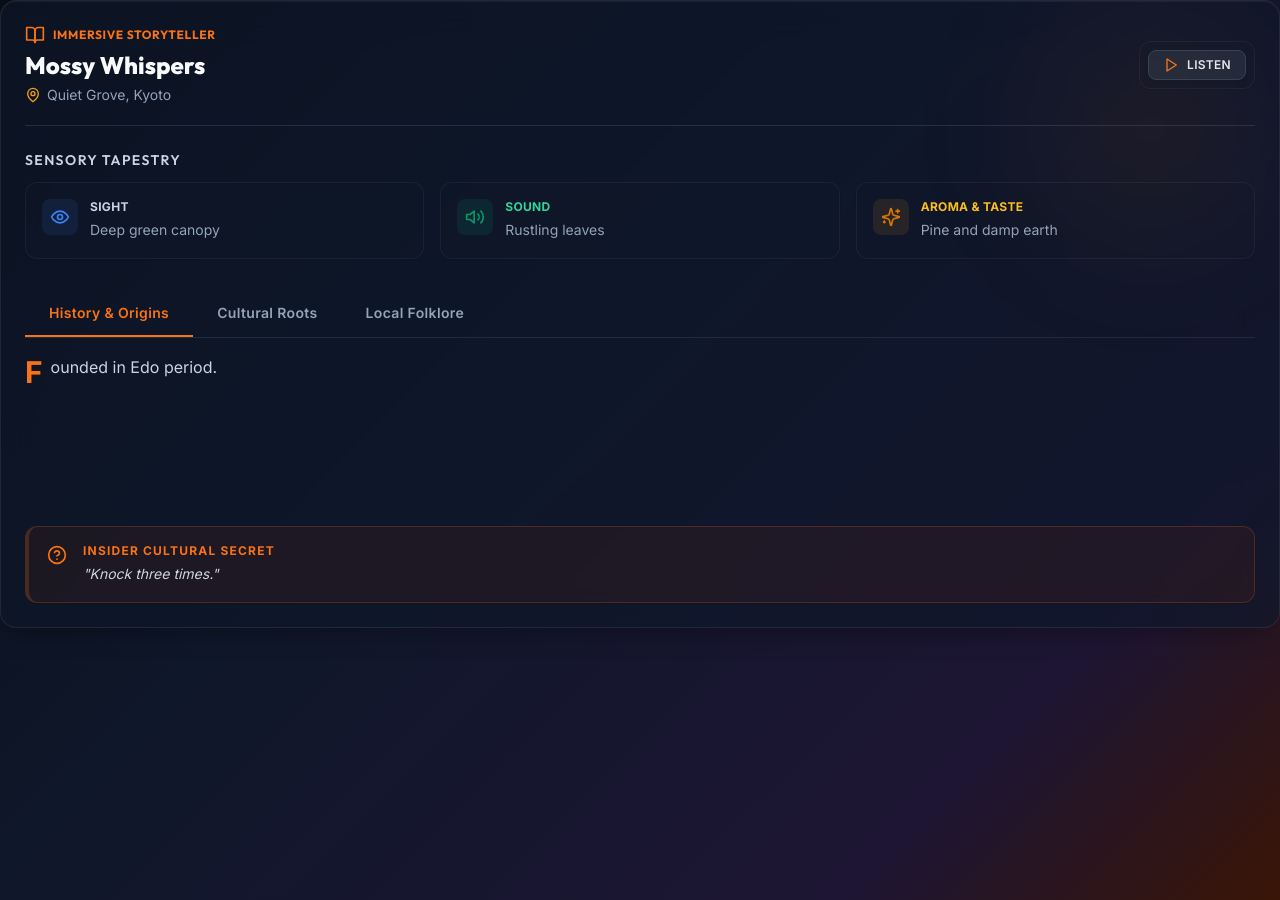
CultureConnect UI Components Unit & Integration Tests › StorytellingCard Component › should manage voice narrator button toggle state
Note: Start speaking
What coordinates should you click on to do the following:
click the button with aria-label "Listen to voice narrator"
I would click on:
 (1197, 65)
Its box is [1148,50,1246,80].
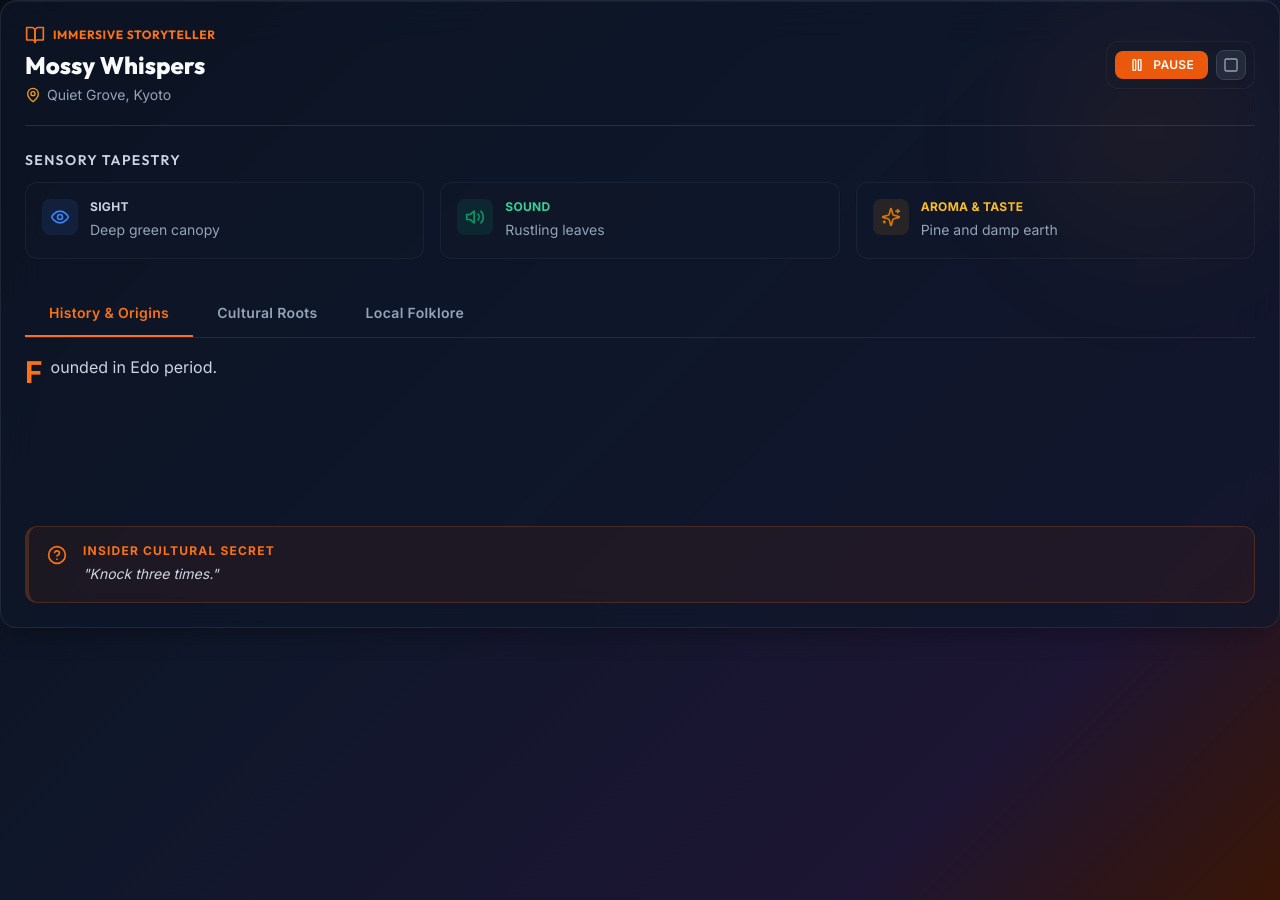
Result: the button with aria-label "Pause voice narrator" is shown
Note: Pause speaking
What coordinates should you click on to do the following:
click the button with aria-label "Pause voice narrator"
I would click on:
 (1162, 65)
Its box is [1115,51,1208,79].
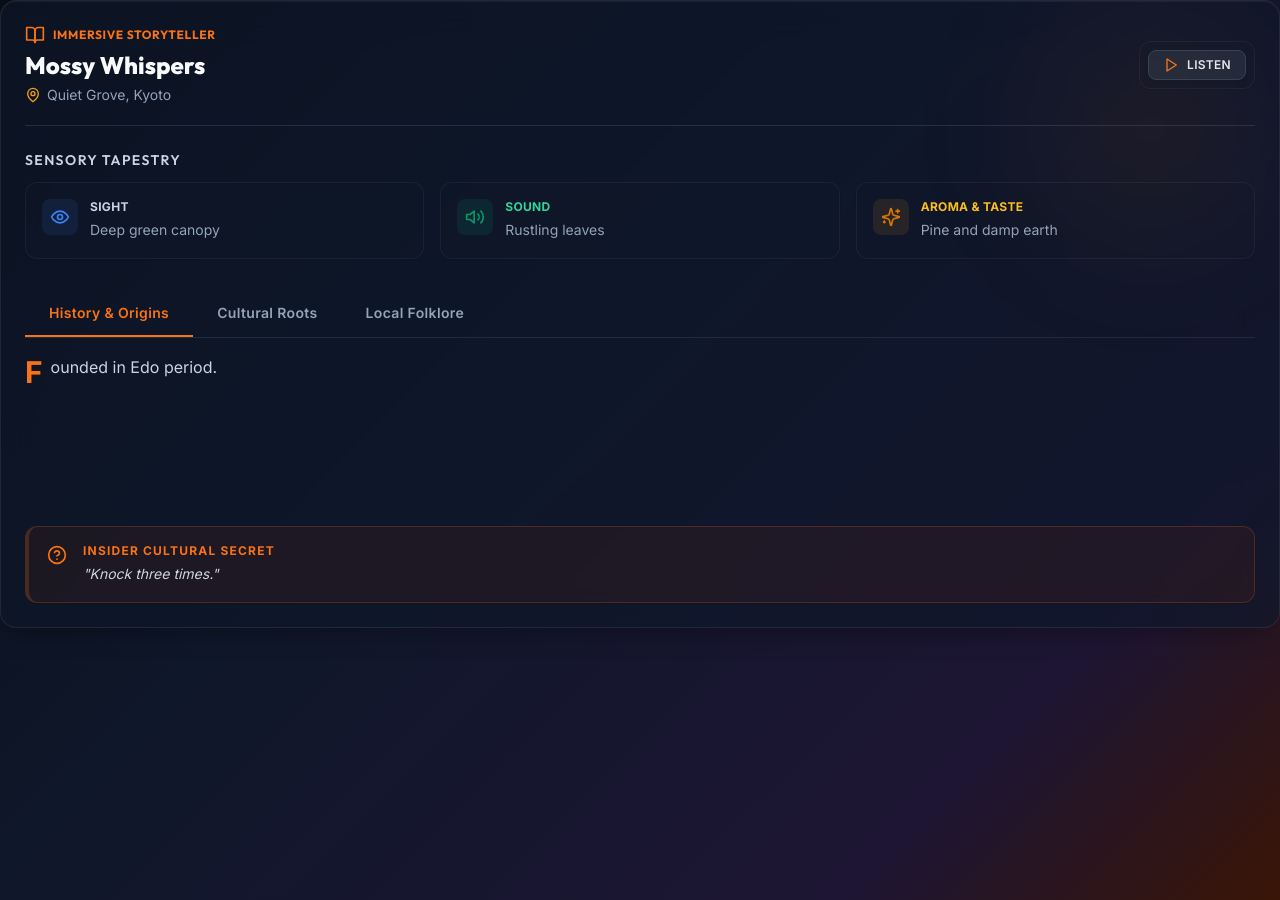
Result: the button with aria-label "Listen to voice narrator" is shown at [1148,50,1246,80]
